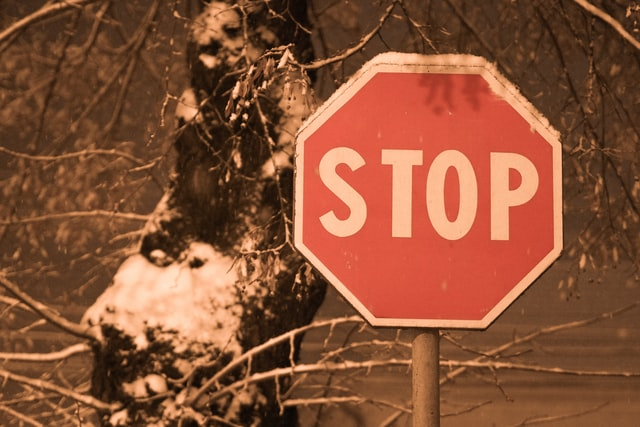STOP: (280, 49, 587, 338)
